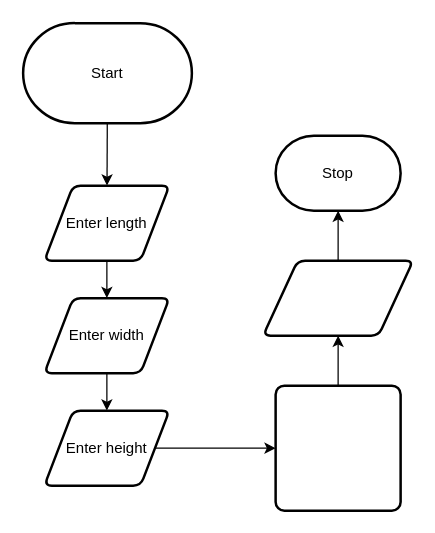
Some shapes in this 435 by 533 pixel diagram are drawn without their labels. Each missing label, with the centre of its shape:
Show volume: the point at 337,297
volume = (height x width length) /2: the point at 337,447
